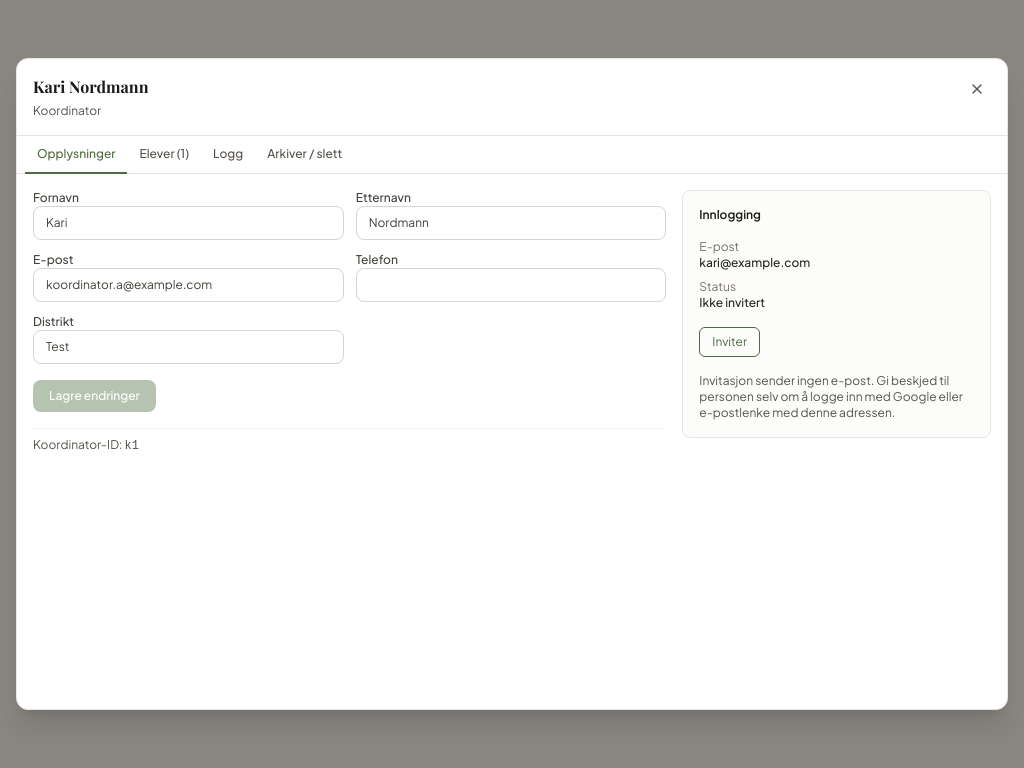
Test: personkort: arkivering › viser hint om å arkivere i stedet når sletting er blokkert av lenker
This screenshot has width=1024, height=768.
Click the tab "Arkiver / slett" at {"x": 305, "y": 155}, box [255,136,354,174]
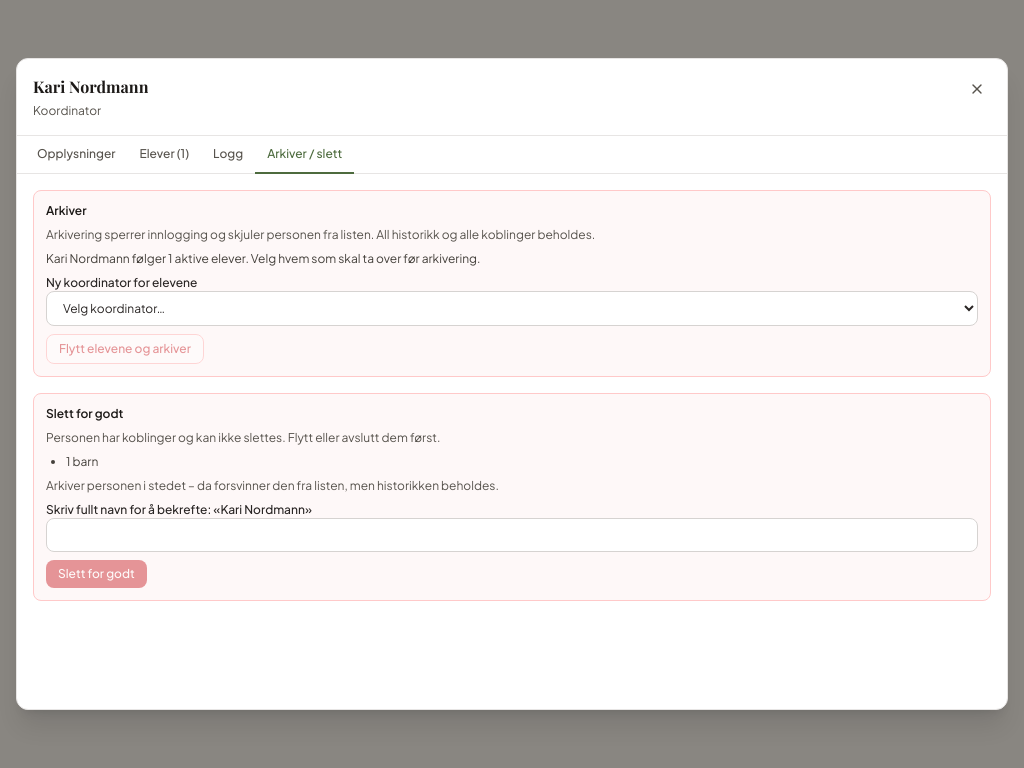
Check: the text "Arkiver personen i stedet – da forsvinner den fra listen, men historikken beholdes." is shown, box [46,478,499,493]
